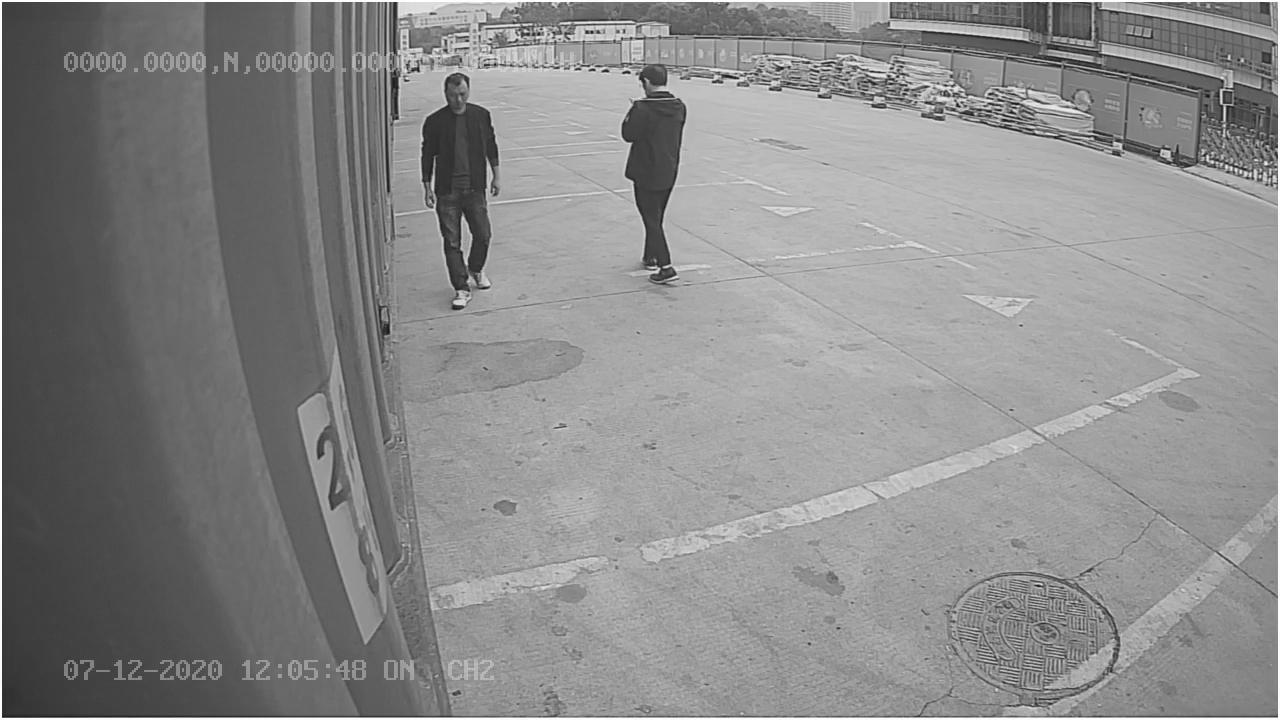person: (416, 67, 502, 311), (619, 61, 685, 288)
